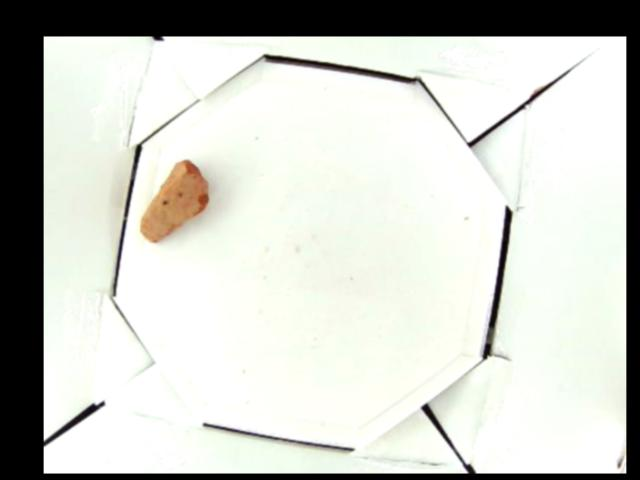Brisk: (138, 158, 210, 244)
